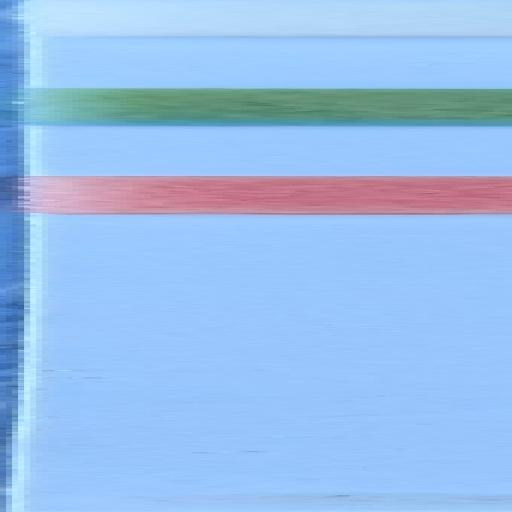pads: (0, 82, 512, 130), (0, 173, 512, 215), (0, 4, 512, 36)
